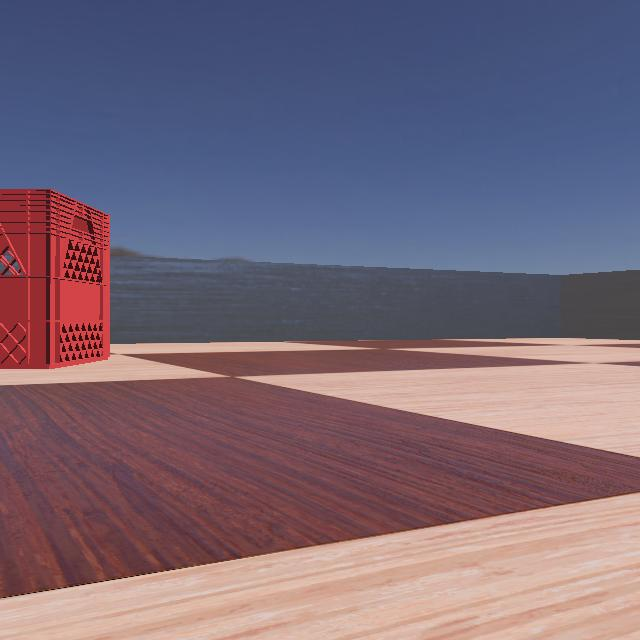plastic-crate: (0, 179, 110, 371)
